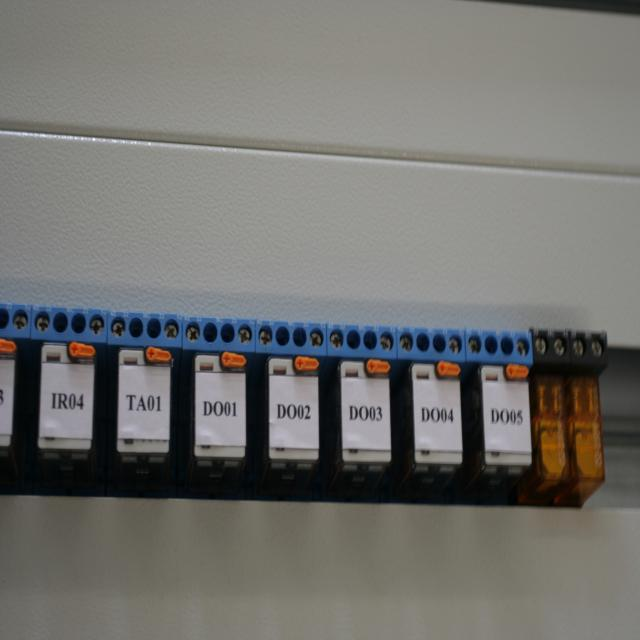Dimmer: (23, 306, 107, 495), (103, 313, 183, 498), (253, 320, 328, 501), (181, 316, 254, 498), (327, 321, 399, 501), (464, 330, 535, 504), (398, 326, 468, 502), (0, 301, 34, 494)
